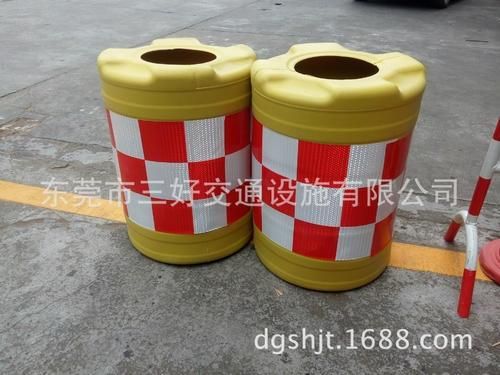cone_barrel: (253, 47, 425, 294), (99, 36, 249, 262)
